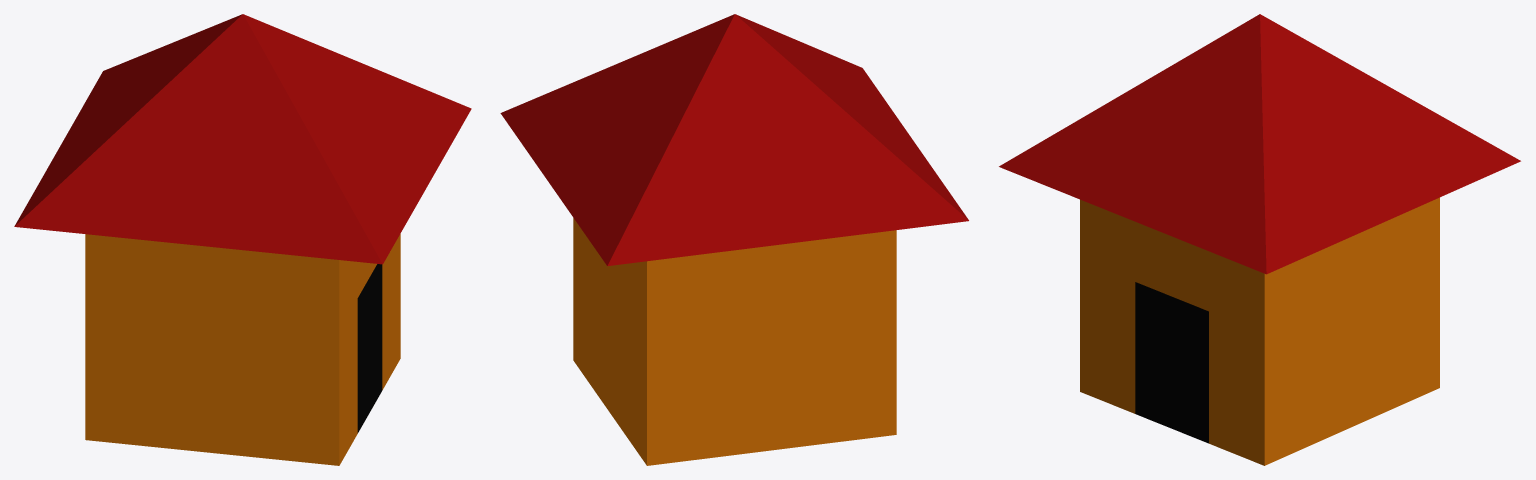
The model's file is House.glb.
3 views of the same model, side by side, from view 1: azimuth 30°, elevation 25°; view 2: azimuth 150°, elevation 25°; view 3: azimuth 270°, elevation 25° (orthographic). The views are drawn at different scales.
Visible parts, largest first — view 1: Houses; view 2: Houses; view 3: Houses.
Boxes of the visible parts, bbox=[...] form: Houses: bbox=[14, 14, 471, 465]; Houses: bbox=[500, 14, 968, 465]; Houses: bbox=[999, 14, 1520, 465].
Bounding box in the file's own units: 0.7526 × 0.5968 × 0.7526.
